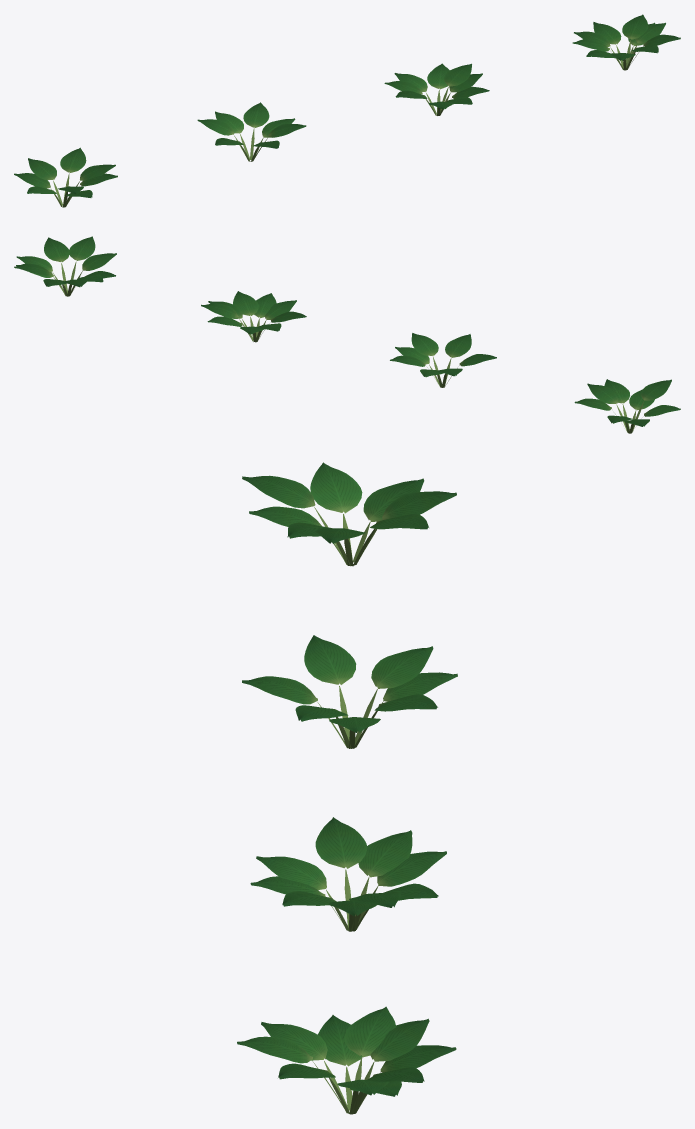
3 renders of one model, top to bottom at view 1: azimuth 30°, elevation 25°; view 2: azimuth 150°, elevation 25°; view 3: azimuth 270°, elevation 25°, orthographic. The views are drawn at different scales.
Parts seen in each view (by area): view 1: anubias.003, anubias.002, anubias, anubias.001; view 2: anubias.003, anubias.002, anubias, anubias.001; view 3: anubias.003, anubias.002, anubias, anubias.001.
Part boxes in pixels (x1,y1,x2,y2): anubias.003: (572,14,680,70); anubias.002: (384,63,489,115); anubias: (14,147,117,207); anubias.001: (197,102,306,161); anubias.003: (14,236,116,296); anubias.002: (201,291,306,342); anubias: (574,379,680,433); anubias.001: (390,333,496,387); anubias.003: (237,1006,456,1114); anubias.002: (250,817,446,931); anubias: (242,462,456,566); anubias.001: (242,635,457,748).
Bounding box in the file's own units: 10.44 × 0.5734 × 1.53.
1 material, 1 textured.
